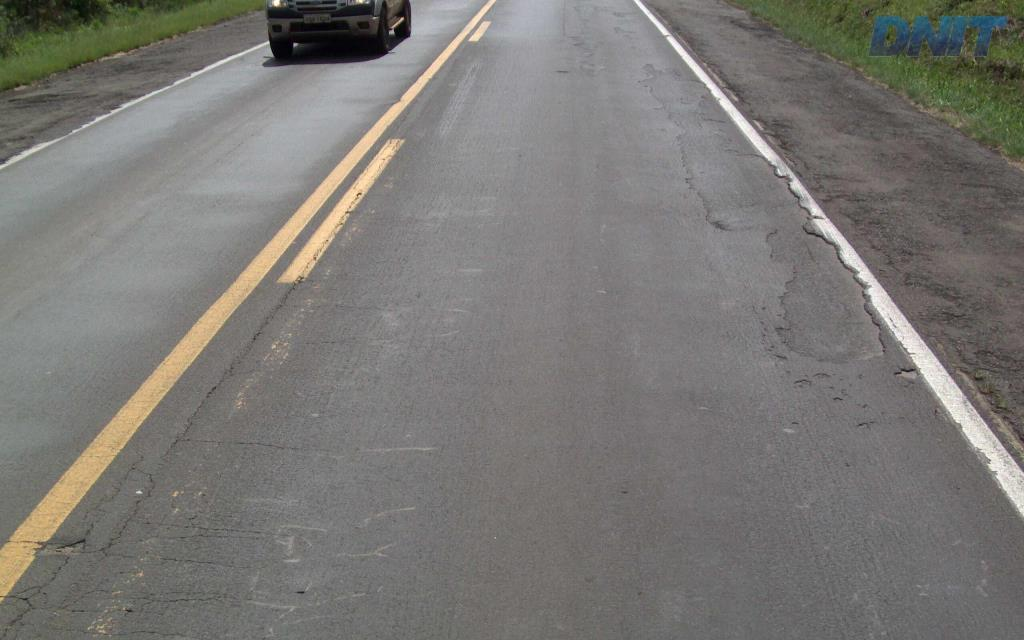crack: (37, 516, 133, 561), (2, 582, 49, 637)
pothole: (639, 58, 883, 369), (894, 362, 917, 379)
